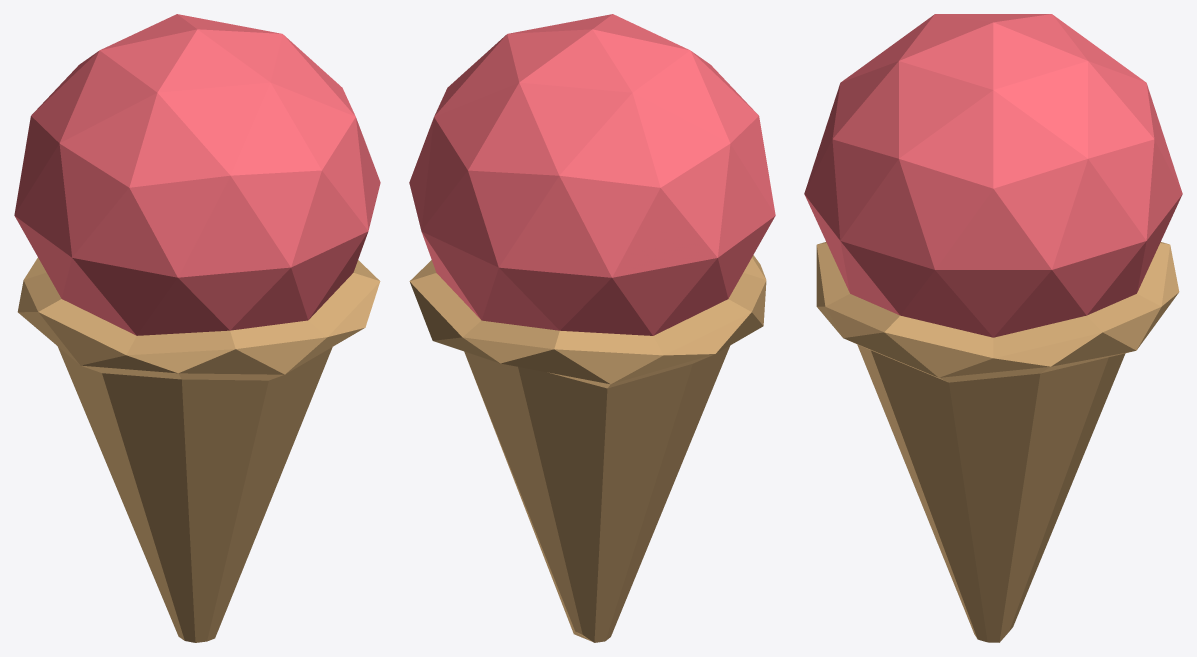
Rendered from ice_strawberry.fbx.
3 views of the same model, side by side, from view 1: azimuth 30°, elevation 25°; view 2: azimuth 150°, elevation 25°; view 3: azimuth 270°, elevation 25° (orthographic).
Parts seen in each view (by area): view 1: ice_strawberry; view 2: ice_strawberry; view 3: ice_strawberry.
Part boxes in pixels (left/top/right/bottom): ice_strawberry: left=14, top=14, right=380, bottom=642; ice_strawberry: left=409, top=14, right=775, bottom=642; ice_strawberry: left=804, top=14, right=1182, bottom=642.
Bounding box in the file's own units: 7.33 × 13.66 × 7.59.
